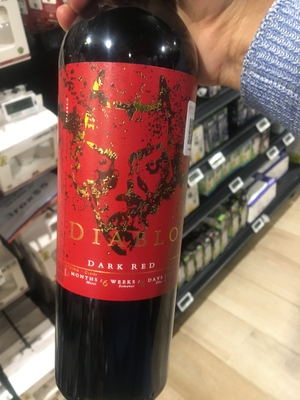diablo dark red: (50, 25, 212, 371)
